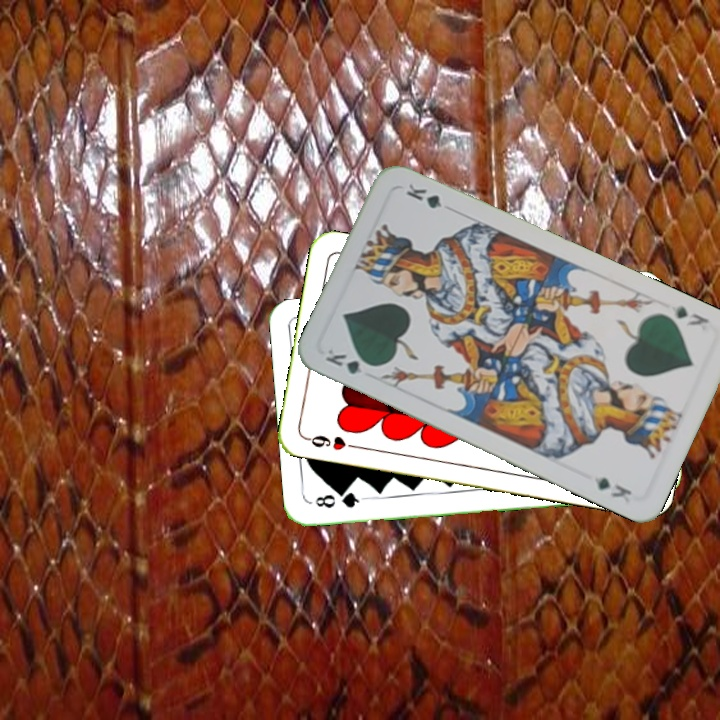G8: (311, 488, 361, 511)
GK: (321, 344, 379, 377), (672, 301, 712, 329)
H9: (302, 431, 361, 453)
